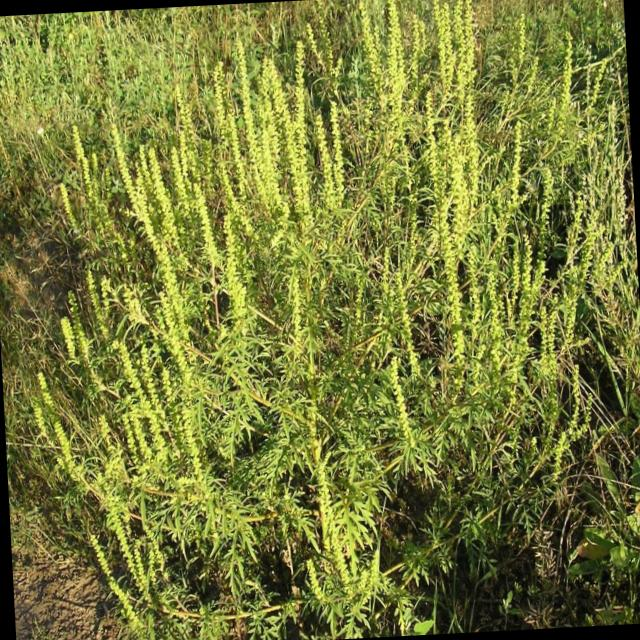ambrosia: (60, 334, 274, 578), (364, 229, 591, 451), (212, 45, 355, 338), (55, 110, 233, 310), (421, 0, 521, 224), (282, 443, 391, 596), (342, 11, 412, 160)
